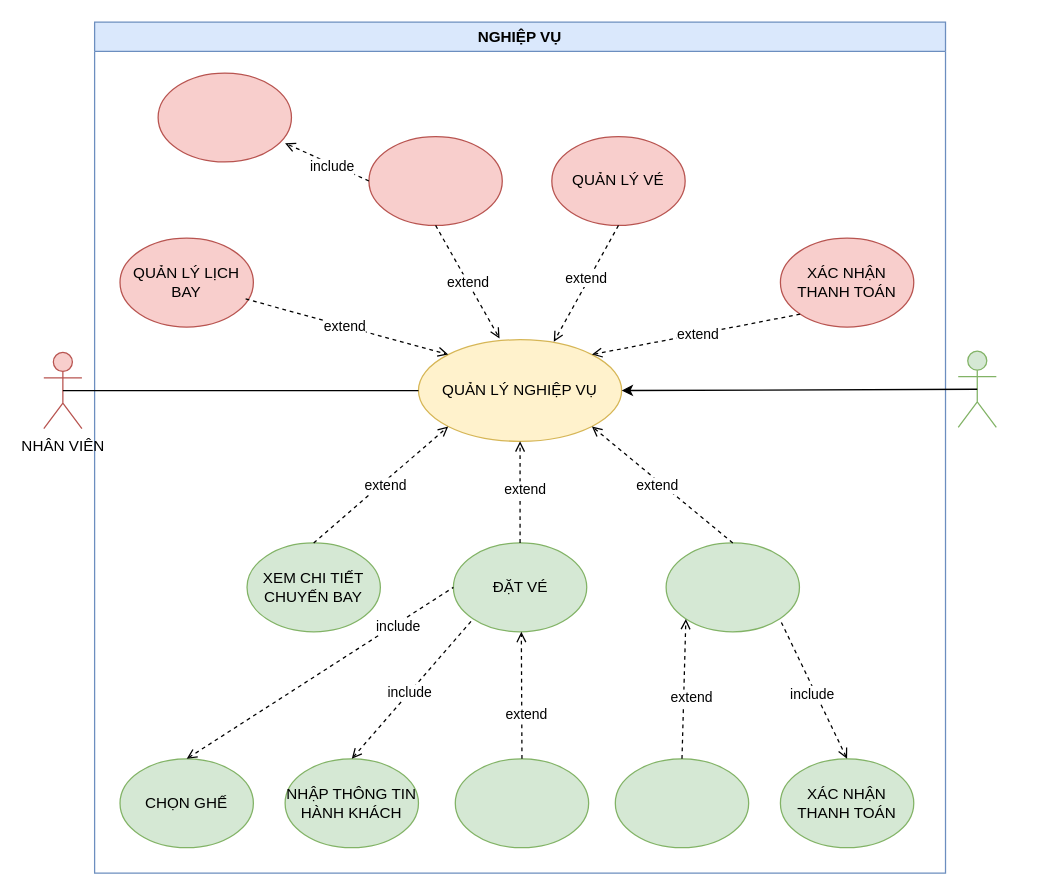
This 1050x895 diagram has some shape labels left out. The shapes that lost their labels are listed below. From the top down, each one's centre as x and y in pixels, then its label:
[224,117]: CẬP NHẬT TRẠNG THÁI CHUYẾN BAY
[435,180]: QUẢN LÝ CHUYẾN BAY
[976,388]: KHÁCH HÀNG
[732,587]: THANH TOÁN
[521,803]: ĐĂNG KÝ DỊCH VỤ BỔ SUNG
[681,803]: CHỌN PHƯƠNG THỨC THANH TOÁN
